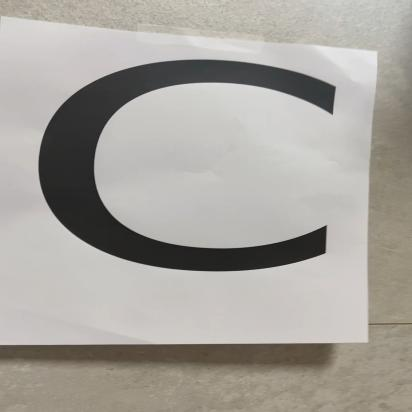seat: (0, 13, 381, 358)
